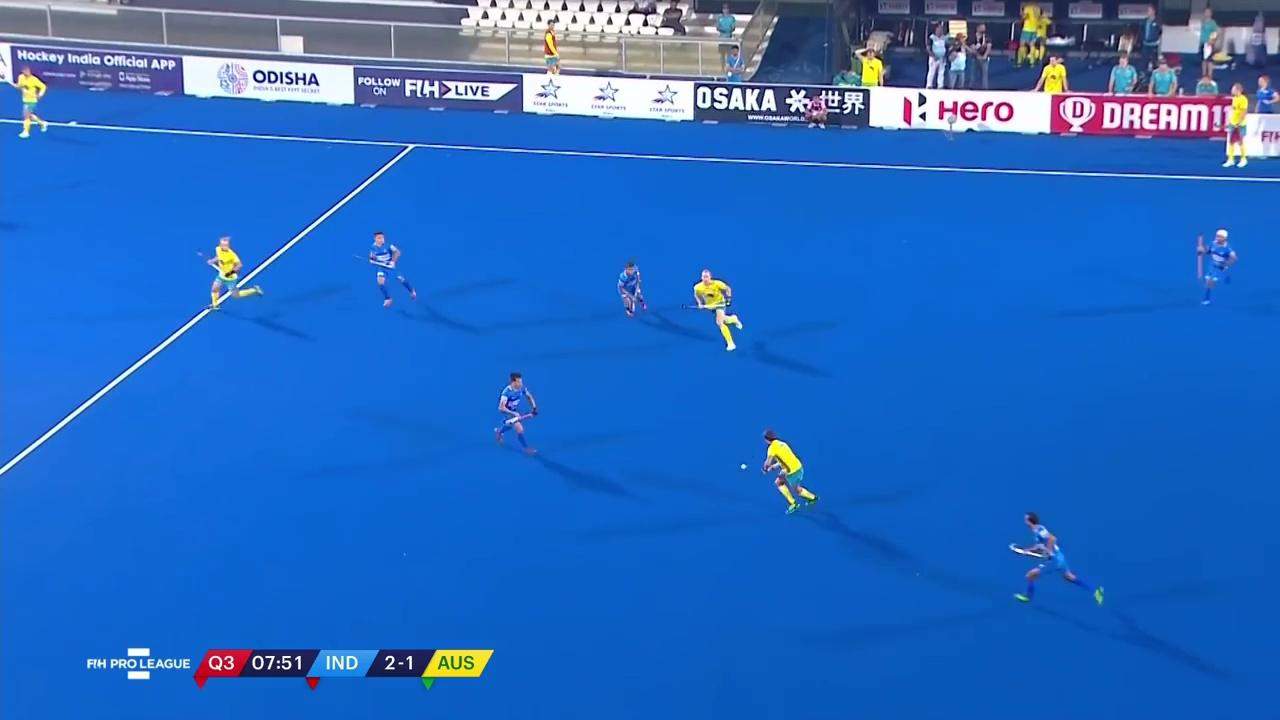ball: (735, 458, 751, 473)
